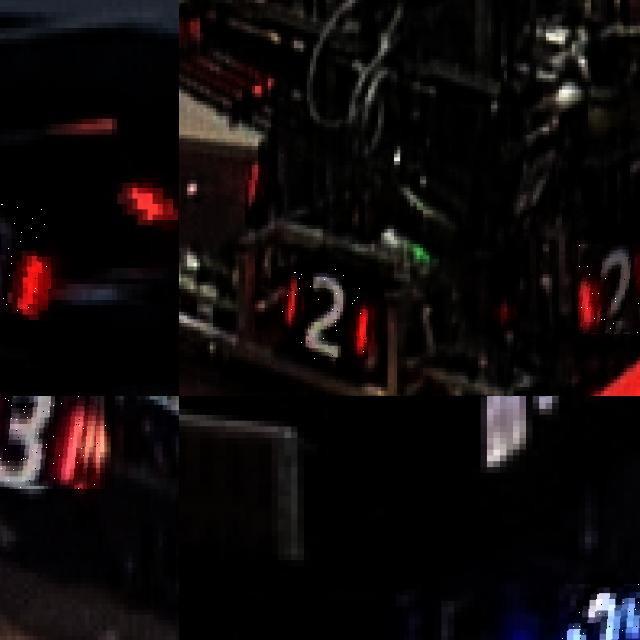B2: (558, 583, 640, 640)
R2: (278, 266, 368, 361), (578, 243, 640, 334)
R3: (0, 396, 106, 488), (0, 198, 51, 321)
